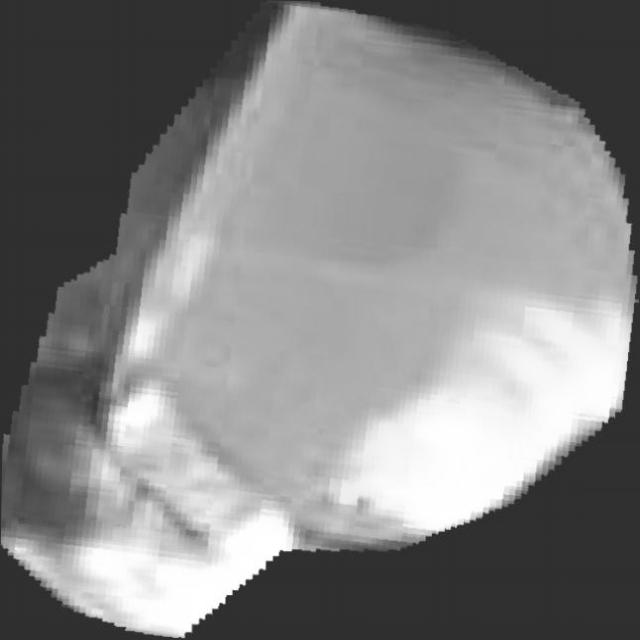construction helmet: (1, 1, 639, 640)
